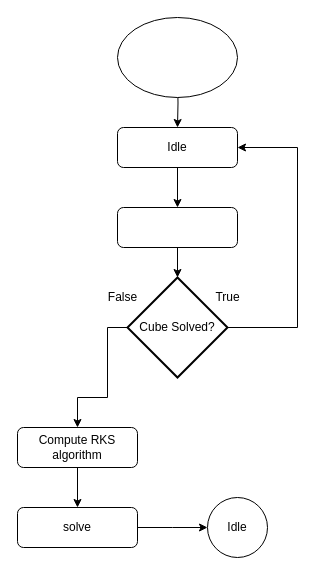
Some shapes in this 323 by 575 pixel diagram are drawn without their labels. The box of each missing label's shape, as (x1, y1, x2, y2) in pixels:
Get Cube State: (116, 206, 238, 248)
Init: (116, 16, 238, 98)
